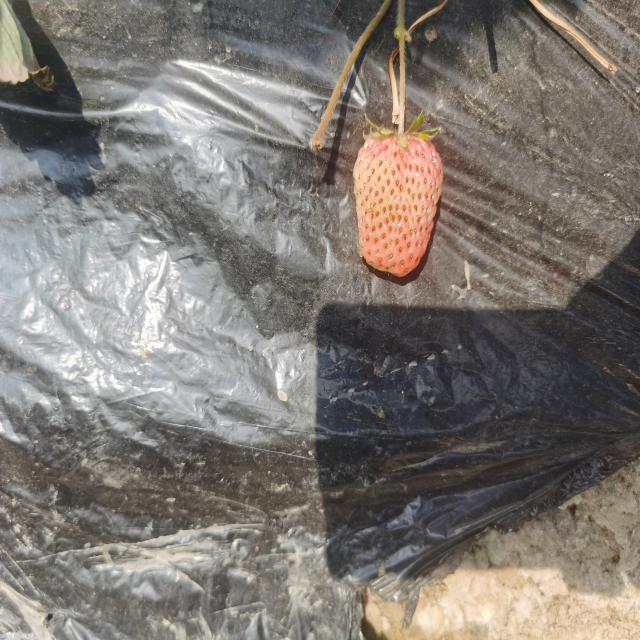stem: (398, 81, 405, 138)
strawberry: (353, 132, 443, 277)
